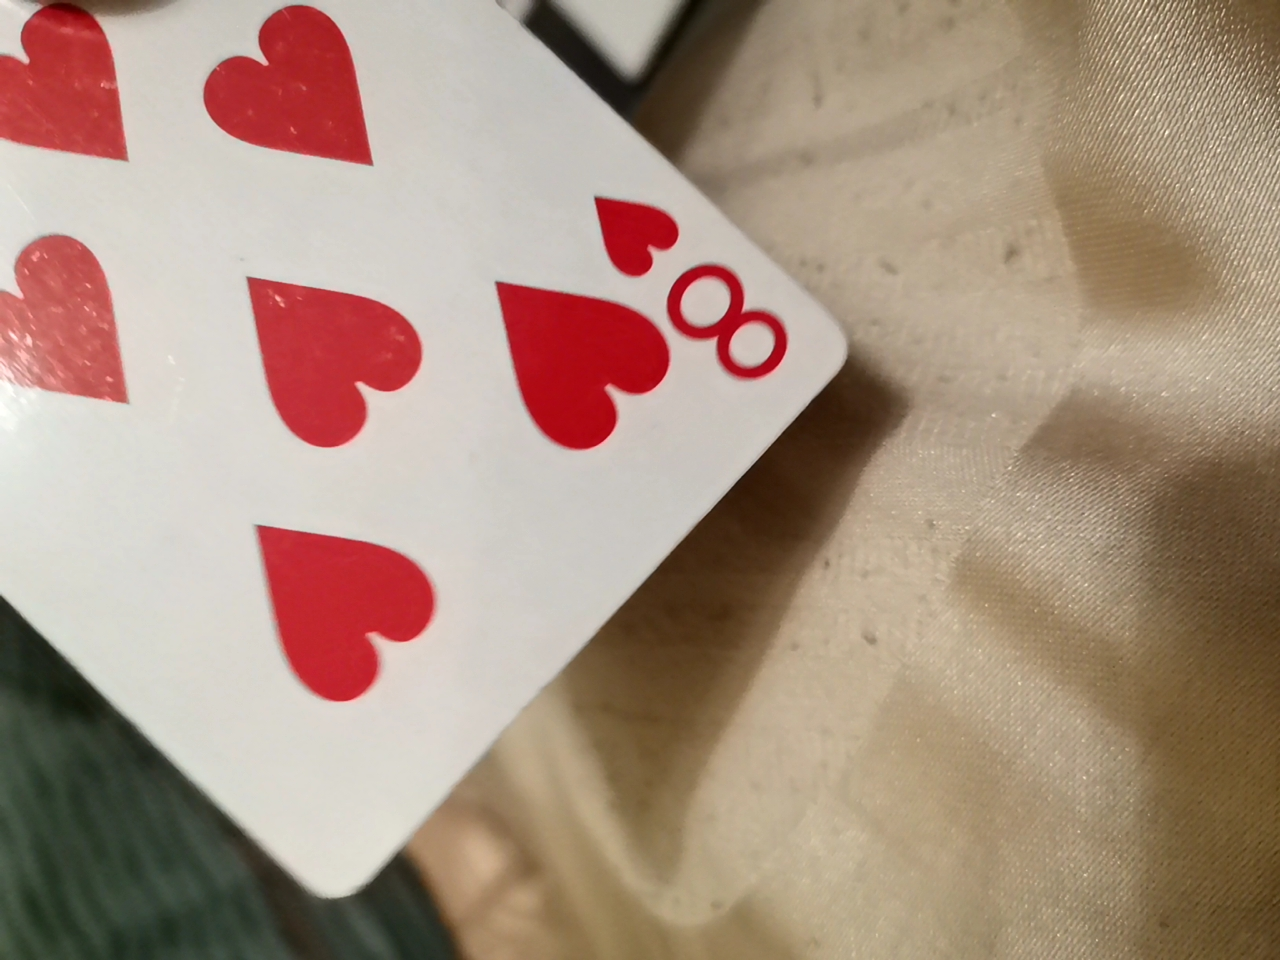hx 8: (2, 13, 880, 925)
